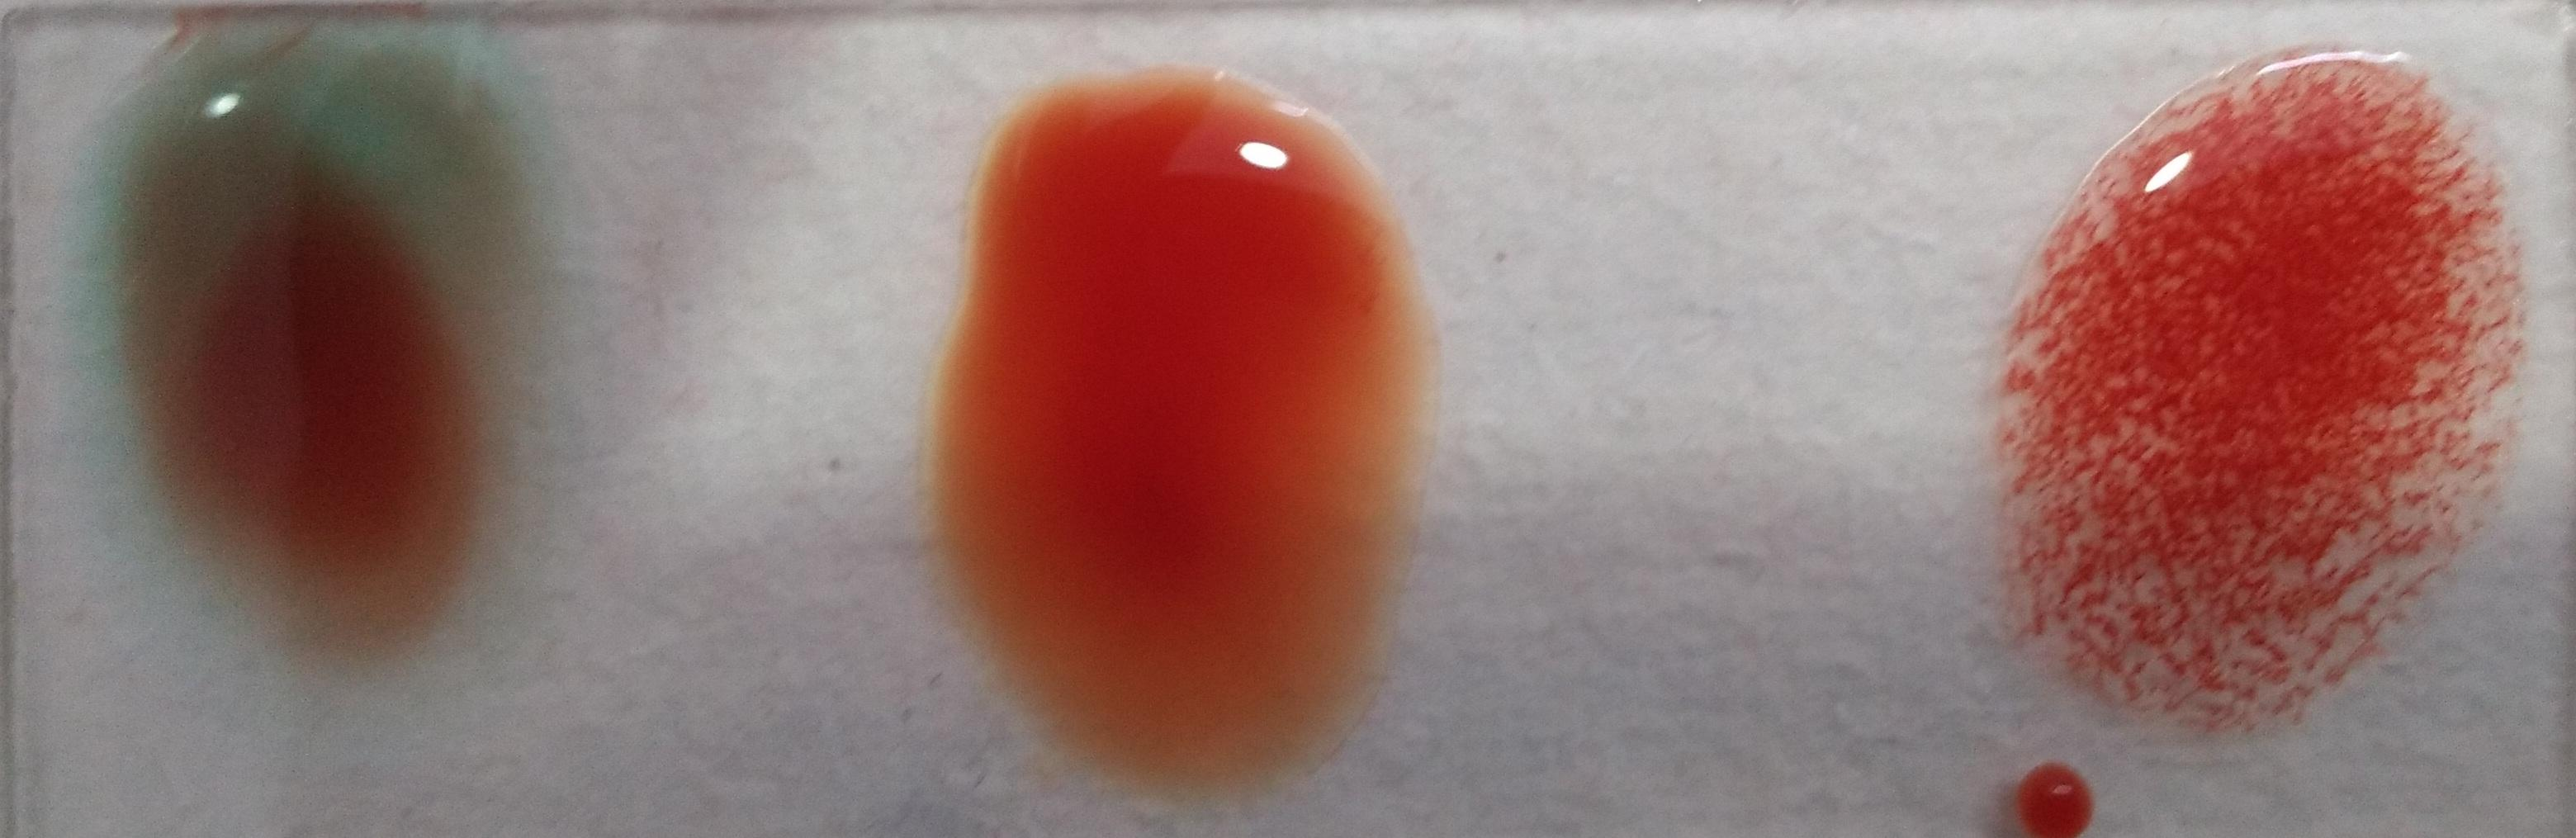D: (1988, 48, 2520, 731)
